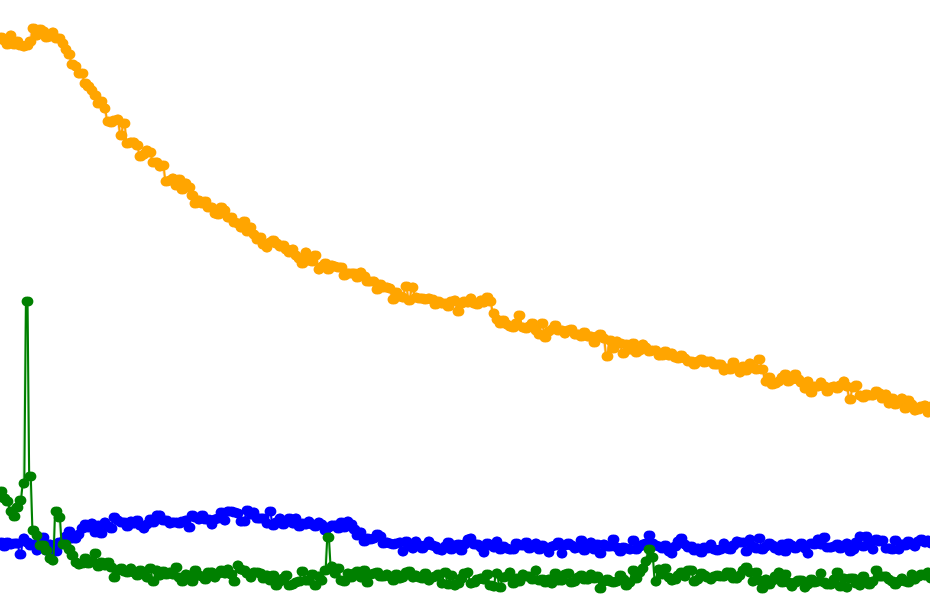CO2 Problem: (116, 0, 930, 616), (622, 0, 930, 616), (38, 0, 116, 616)
Condensation (CO2): (116, 0, 349, 616), (38, 0, 116, 616)
Lid Open: (816, 0, 930, 616)
Low CO2: (116, 0, 930, 616), (38, 0, 349, 616), (311, 0, 622, 616), (622, 0, 930, 616), (388, 0, 622, 616), (622, 0, 816, 616), (816, 0, 930, 616), (38, 0, 116, 616), (311, 0, 388, 616), (272, 0, 311, 616), (0, 0, 38, 616)
Normal: (38, 0, 930, 616), (116, 0, 930, 616), (272, 0, 930, 616), (38, 0, 505, 616), (272, 0, 622, 616), (38, 0, 349, 616), (311, 0, 622, 616), (622, 0, 930, 616), (388, 0, 622, 616), (622, 0, 816, 616), (116, 0, 272, 616), (816, 0, 930, 616), (38, 0, 116, 616), (311, 0, 388, 616), (272, 0, 311, 616), (0, 0, 38, 616)
O2 Problem: (116, 0, 930, 616), (311, 0, 622, 616), (622, 0, 930, 616), (388, 0, 622, 616), (116, 0, 272, 616)
